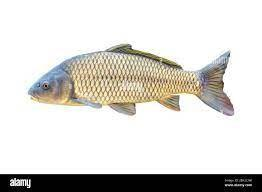Grass Carp: (27, 42, 235, 122)
